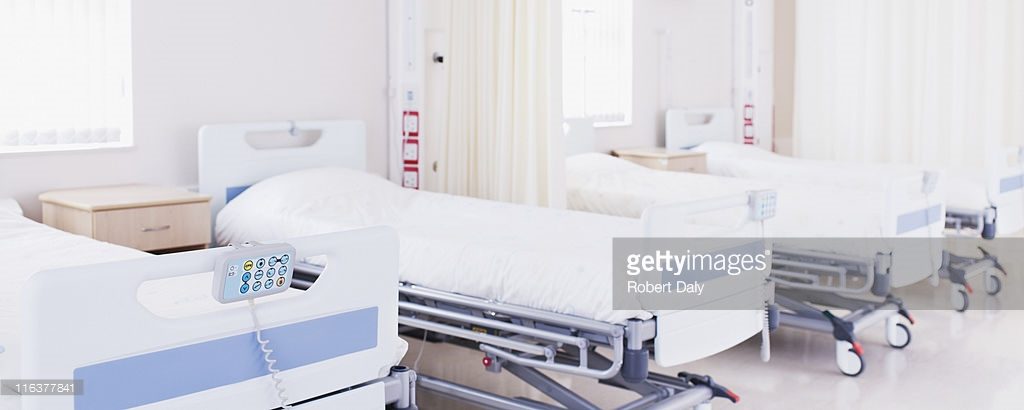hospital bed: (163, 109, 782, 339), (516, 128, 957, 274)
